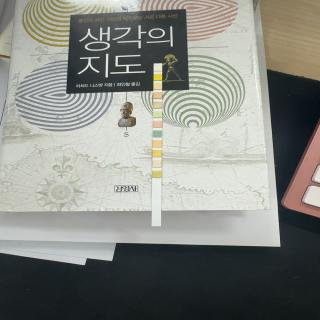mark: (152, 170, 162, 178), (153, 140, 162, 148), (153, 120, 162, 128), (152, 161, 162, 168), (153, 150, 161, 158), (153, 111, 162, 118), (153, 102, 162, 109), (154, 65, 162, 72), (153, 131, 162, 137), (153, 93, 162, 99), (154, 84, 162, 90), (154, 74, 162, 80)
